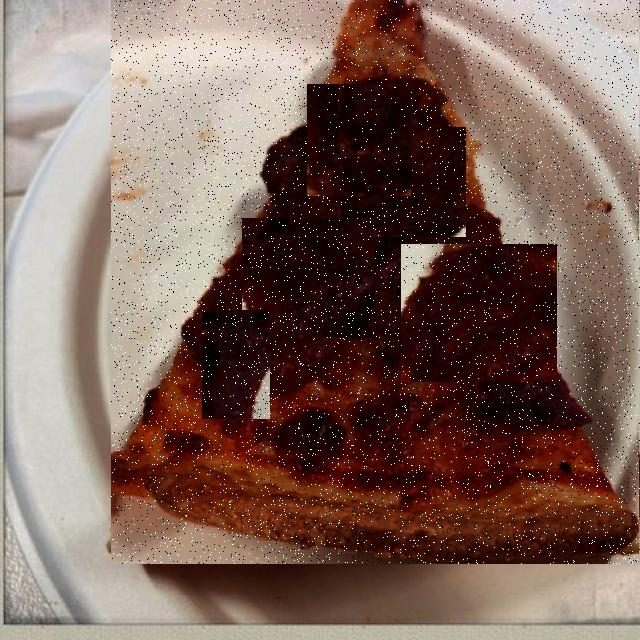Pepperoni: (401, 244, 557, 382), (242, 218, 375, 338), (341, 127, 466, 237), (307, 85, 411, 196), (202, 310, 270, 419)
Pizza: (111, 0, 640, 564)
